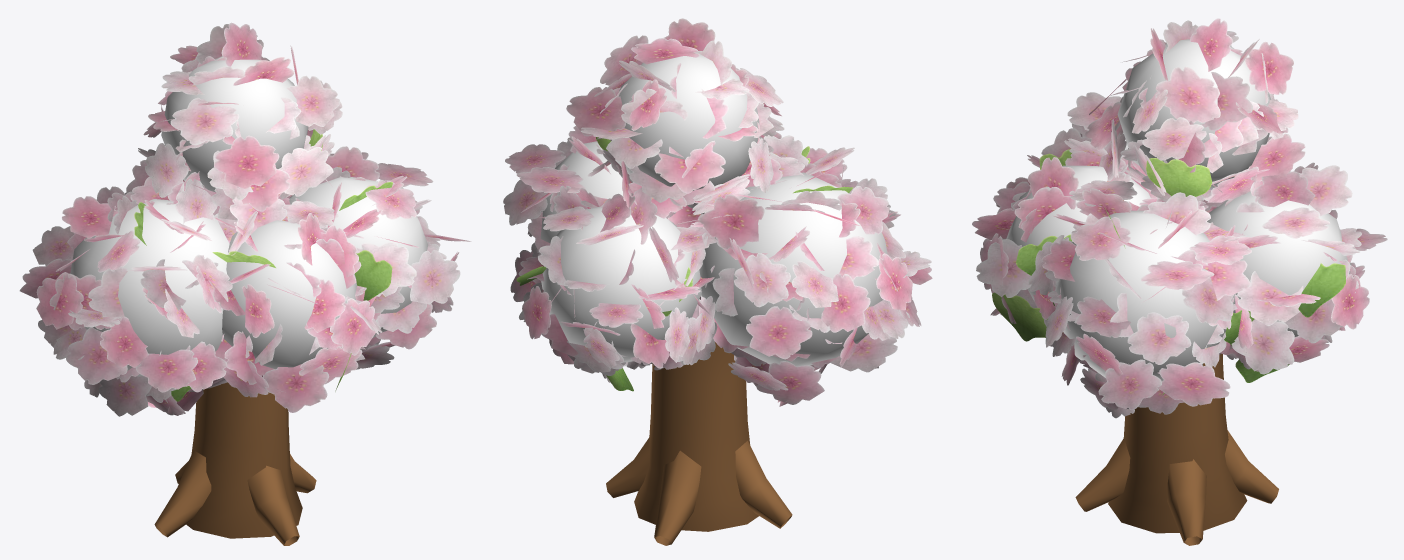
File: tree-round-blossom.glb
The picture shows the model from 3 angles, left to right: view 1: azimuth 30°, elevation 25°; view 2: azimuth 150°, elevation 25°; view 3: azimuth 270°, elevation 25°; orthographic projection. The views are drawn at different scales.
Parts seen in each view (by area): view 1: Crown, Hull, Trunk; view 2: Crown, Hull, Trunk; view 3: Crown, Hull, Trunk.
Boxes of the visible parts, x1=… form: Crown: x1=19, y1=22, x2=471, y2=416; Hull: x1=70, y1=56, x2=427, y2=376; Trunk: x1=154, y1=382, x2=316, y2=545; Crown: x1=503, y1=18, x2=932, y2=406; Hull: x1=540, y1=52, x2=887, y2=366; Trunk: x1=606, y1=342, x2=792, y2=545; Crown: x1=972, y1=18, x2=1387, y2=418; Hull: x1=1006, y1=39, x2=1351, y2=381; Trunk: x1=1075, y1=353, x2=1278, y2=545.
Bounding box in the file's own units: 2.44 × 2.82 × 2.18.
4 materials, 1 textured.
